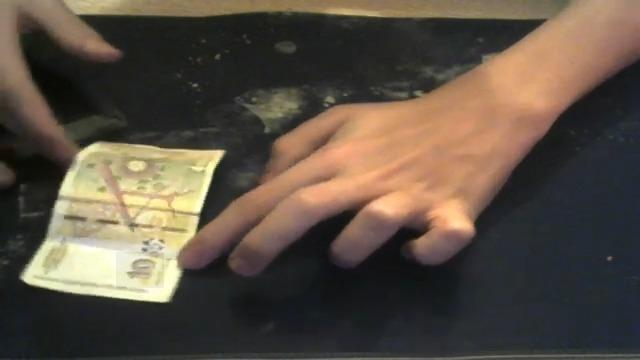10leva: (116, 252, 164, 288)
